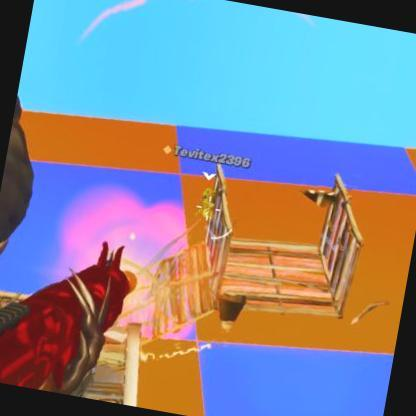person: (198, 186, 216, 224)
